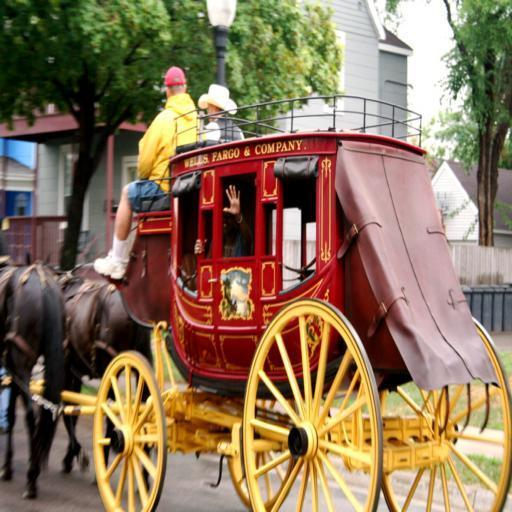horse: (41, 262, 158, 476), (0, 255, 71, 501)
